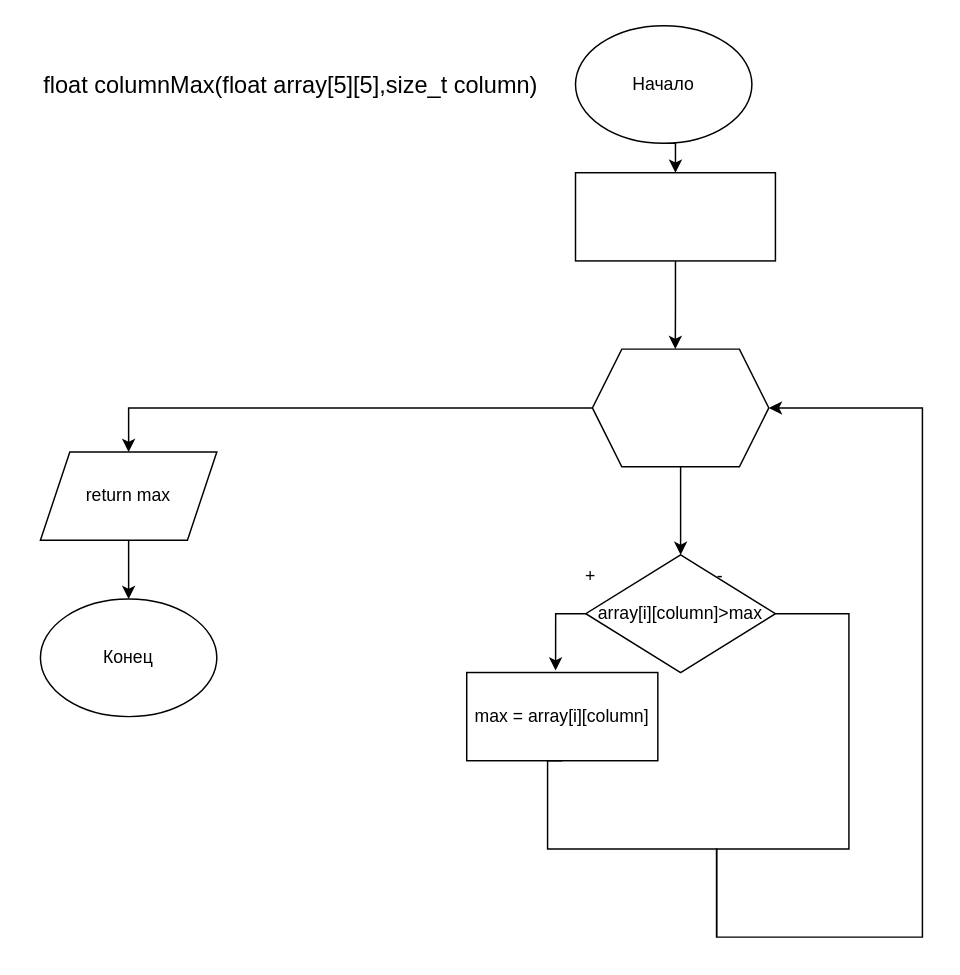
Image size: 960x975. Some labels were removed from this diagram. Here are the shapes that lost their labels. From the top down, the centre of each, then its label:
(674,216): max = array[0][column]
(680,407): int i=0;i<5;i++
